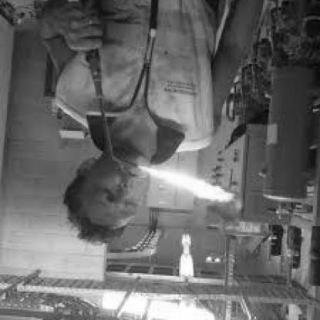Fire: (131, 159, 237, 207)
